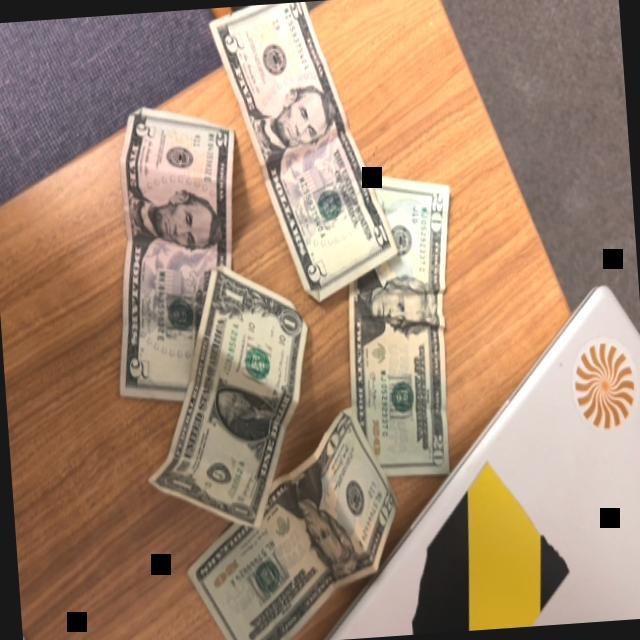five: (208, 0, 401, 309), (98, 98, 252, 405)
one: (132, 258, 322, 533)
twenty: (174, 402, 408, 640), (333, 165, 469, 482)
